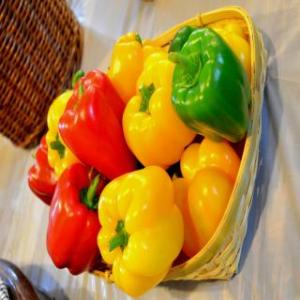bell_pepper: (97, 165, 184, 297), (170, 27, 254, 149), (167, 134, 245, 262), (58, 69, 138, 188), (122, 51, 202, 168), (46, 165, 104, 277)
